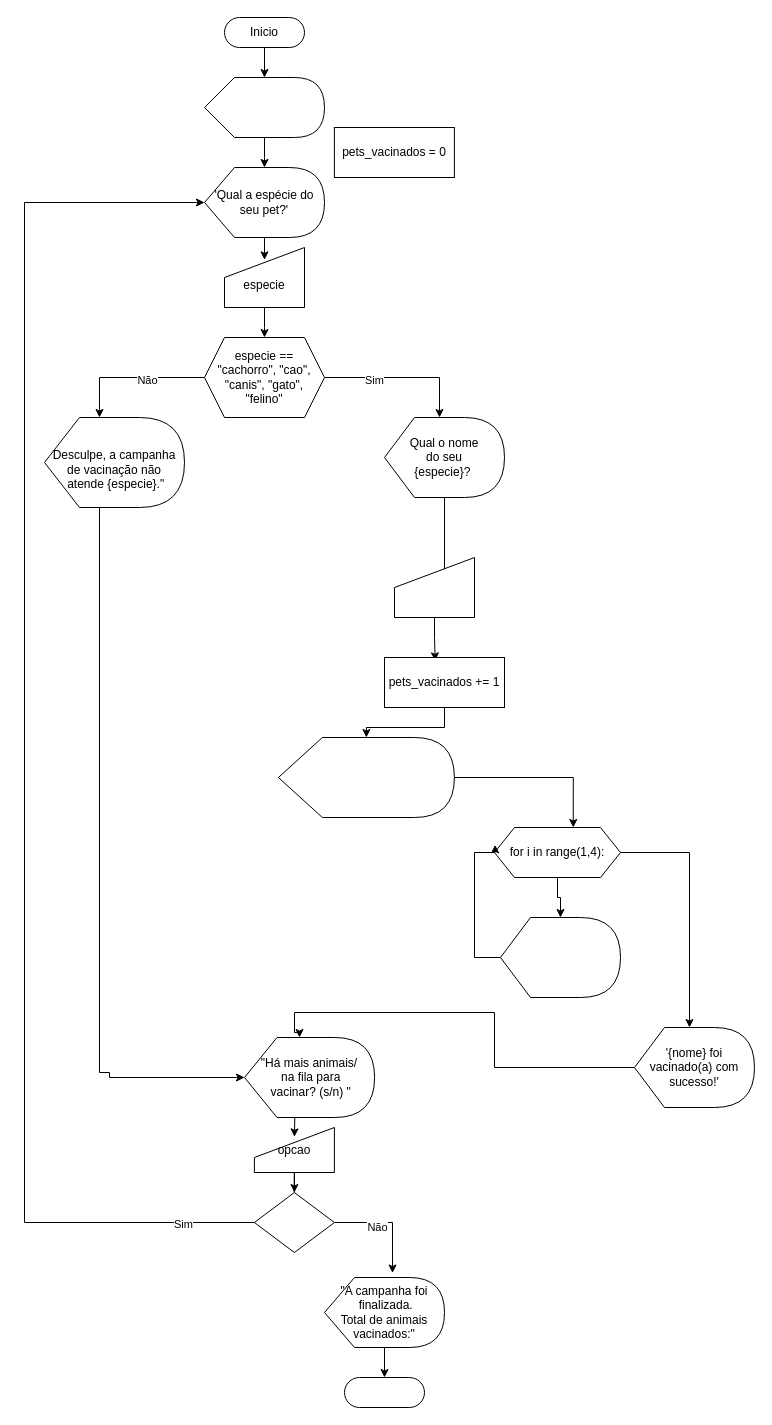
Some shapes in this 772 by 1425 pixel diagram are drawn without their labels. Each missing label, with the centre of its shape:
'Campanha de Vacinação - PuppyBel!': point (264, 107)
Espécie: {especie}, Nome: {nome}, Número: {pets_vacinados}: point (365, 777)
Fim: point (384, 1392)
nome: point (434, 587)
s/n: point (293, 1222)
vacina <{i}> - OK!: point (560, 957)
